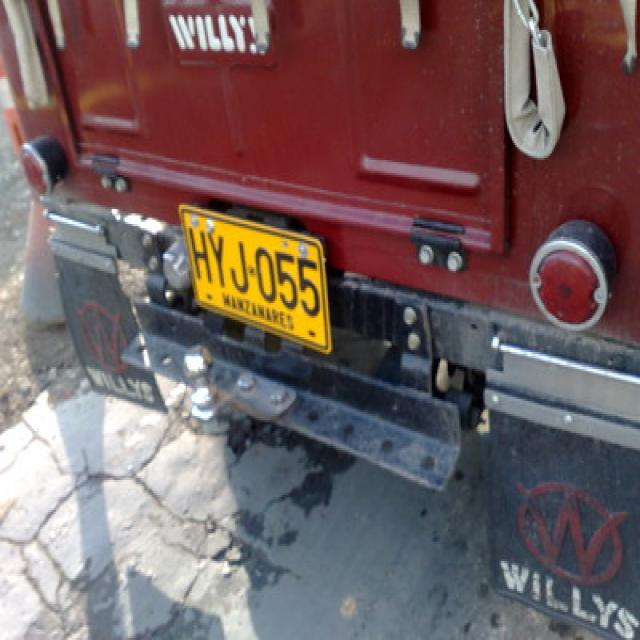placa_carro: (161, 188, 349, 375)
